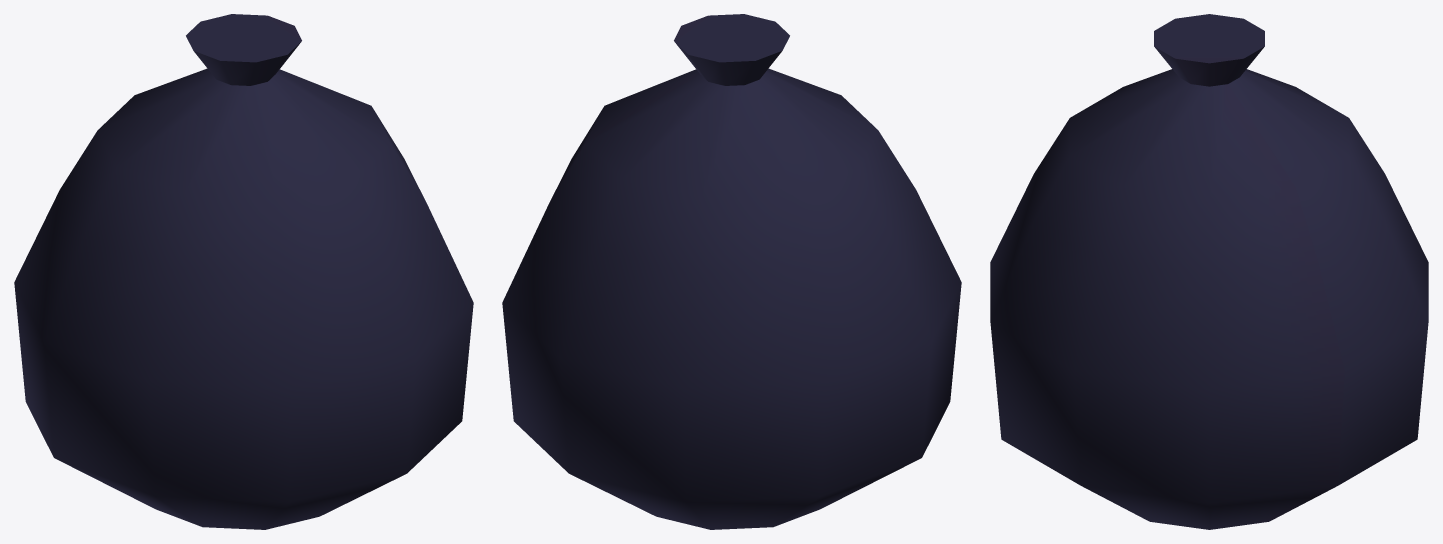
File: _rash_Bag.fbx
The picture shows the model from 3 angles, left to right: view 1: azimuth 30°, elevation 25°; view 2: azimuth 150°, elevation 25°; view 3: azimuth 270°, elevation 25°; orthographic projection.
Parts seen in each view (by area): view 1: Trash_Bag; view 2: Trash_Bag; view 3: Trash_Bag.
Boxes of the visible parts, x1,y1,x2,y2 form: Trash_Bag: (14,14,473,529); Trash_Bag: (502,14,961,529); Trash_Bag: (990,14,1428,529).
Size of the model in its own units: 0.00997 by 0.0107 by 0.00948.
